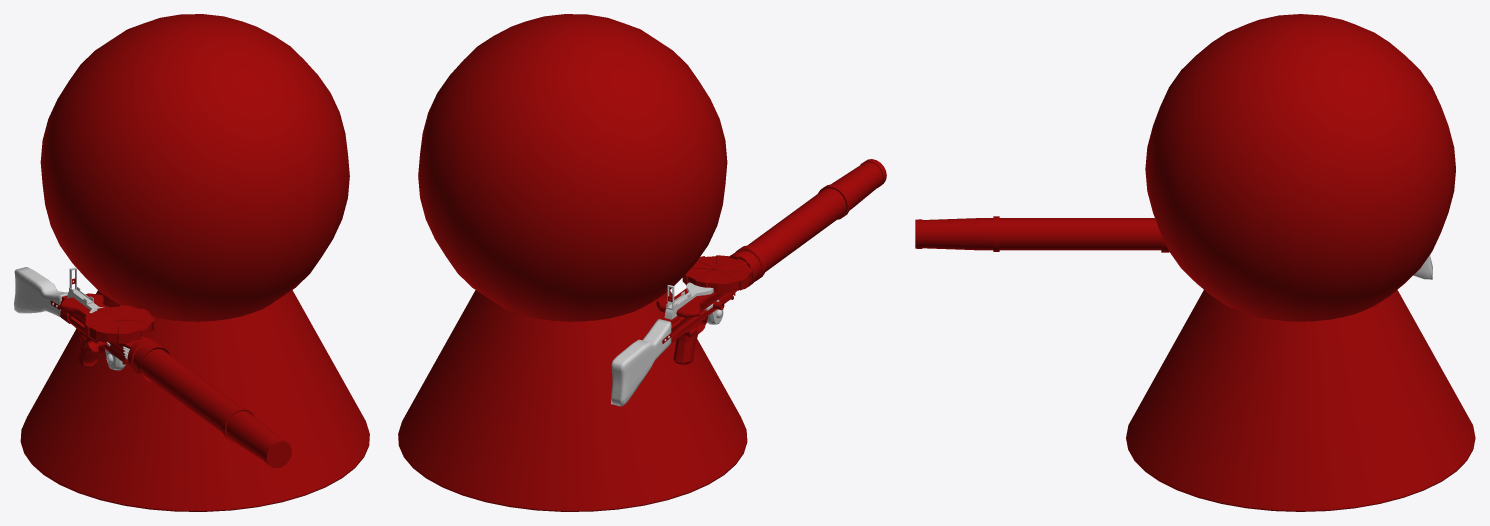
File: LMG_Red.fbx
The picture shows the model from 3 angles, left to right: view 1: azimuth 30°, elevation 25°; view 2: azimuth 150°, elevation 25°; view 3: azimuth 270°, elevation 25°; orthographic projection.
Visible parts, largest first — view 1: polySurface27; view 2: polySurface27; view 3: polySurface27.
Part boxes in pixels (x1,y1,x2,y2): polySurface27: (14, 14, 369, 511); polySurface27: (398, 14, 886, 511); polySurface27: (915, 14, 1475, 511).
Size of the model in its own units: 72.5 by 93.98 by 116.
